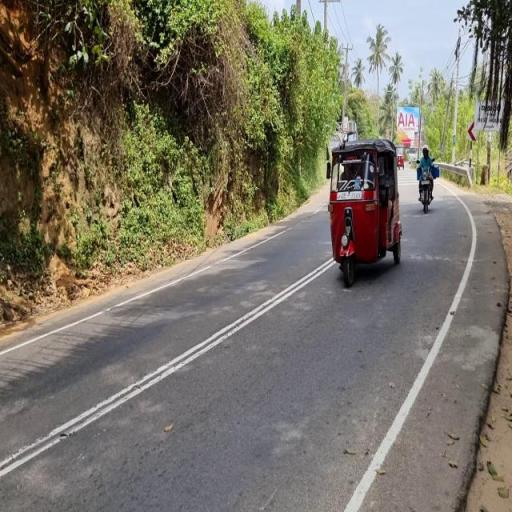double_white_line: (0, 255, 341, 482)
